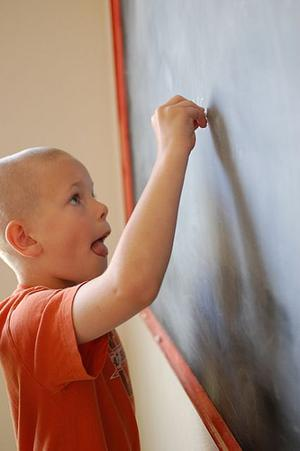person: (2, 94, 208, 451)
